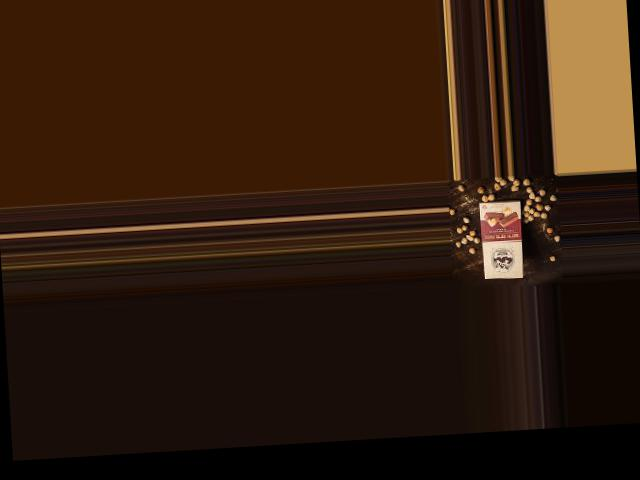chocolate: (476, 198, 529, 282)
